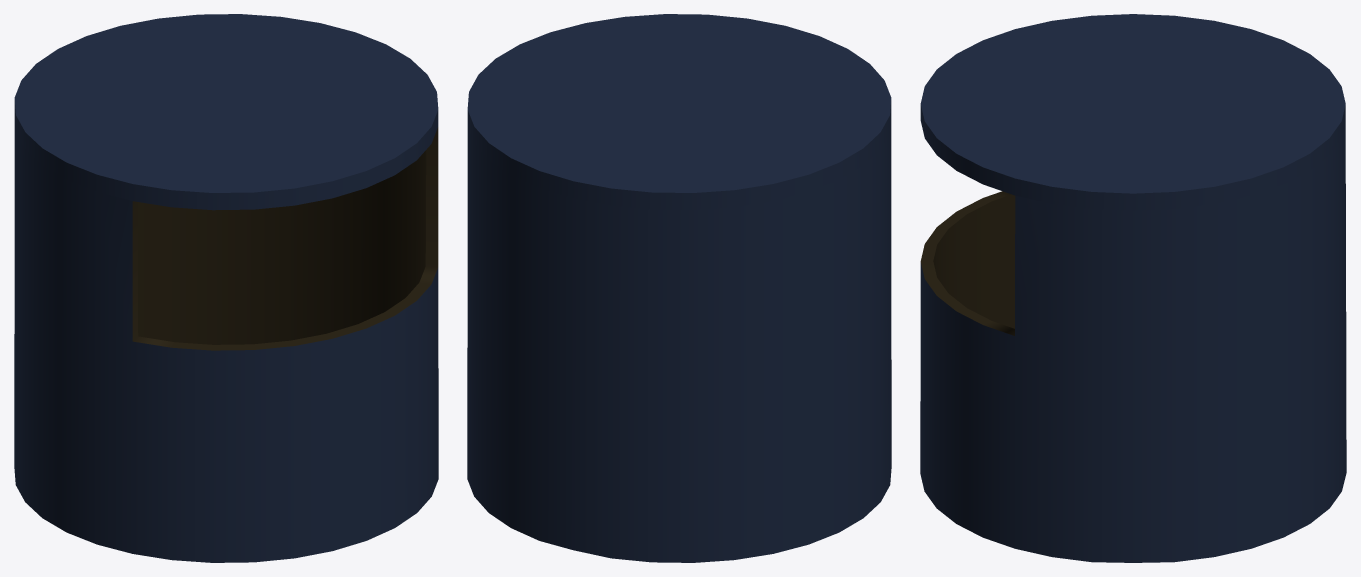
Rendered from trashcan_tier6.fbx.
The picture shows the model from 3 angles, left to right: view 1: azimuth 30°, elevation 25°; view 2: azimuth 150°, elevation 25°; view 3: azimuth 270°, elevation 25°; orthographic projection.
Visible parts, largest first — view 1: Cylinder; view 2: Cylinder; view 3: Cylinder.
Part boxes in pixels (x1,y1,x2,y2): Cylinder: (14, 14, 438, 562); Cylinder: (467, 14, 891, 562); Cylinder: (920, 14, 1346, 562).
Size of the model in its own units: 0.6681 by 0.6404 by 0.6681.
